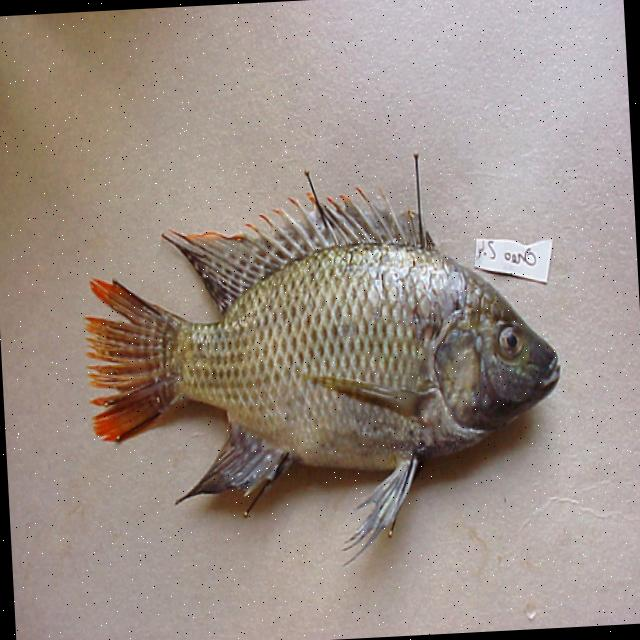ikan: (75, 142, 571, 580)
